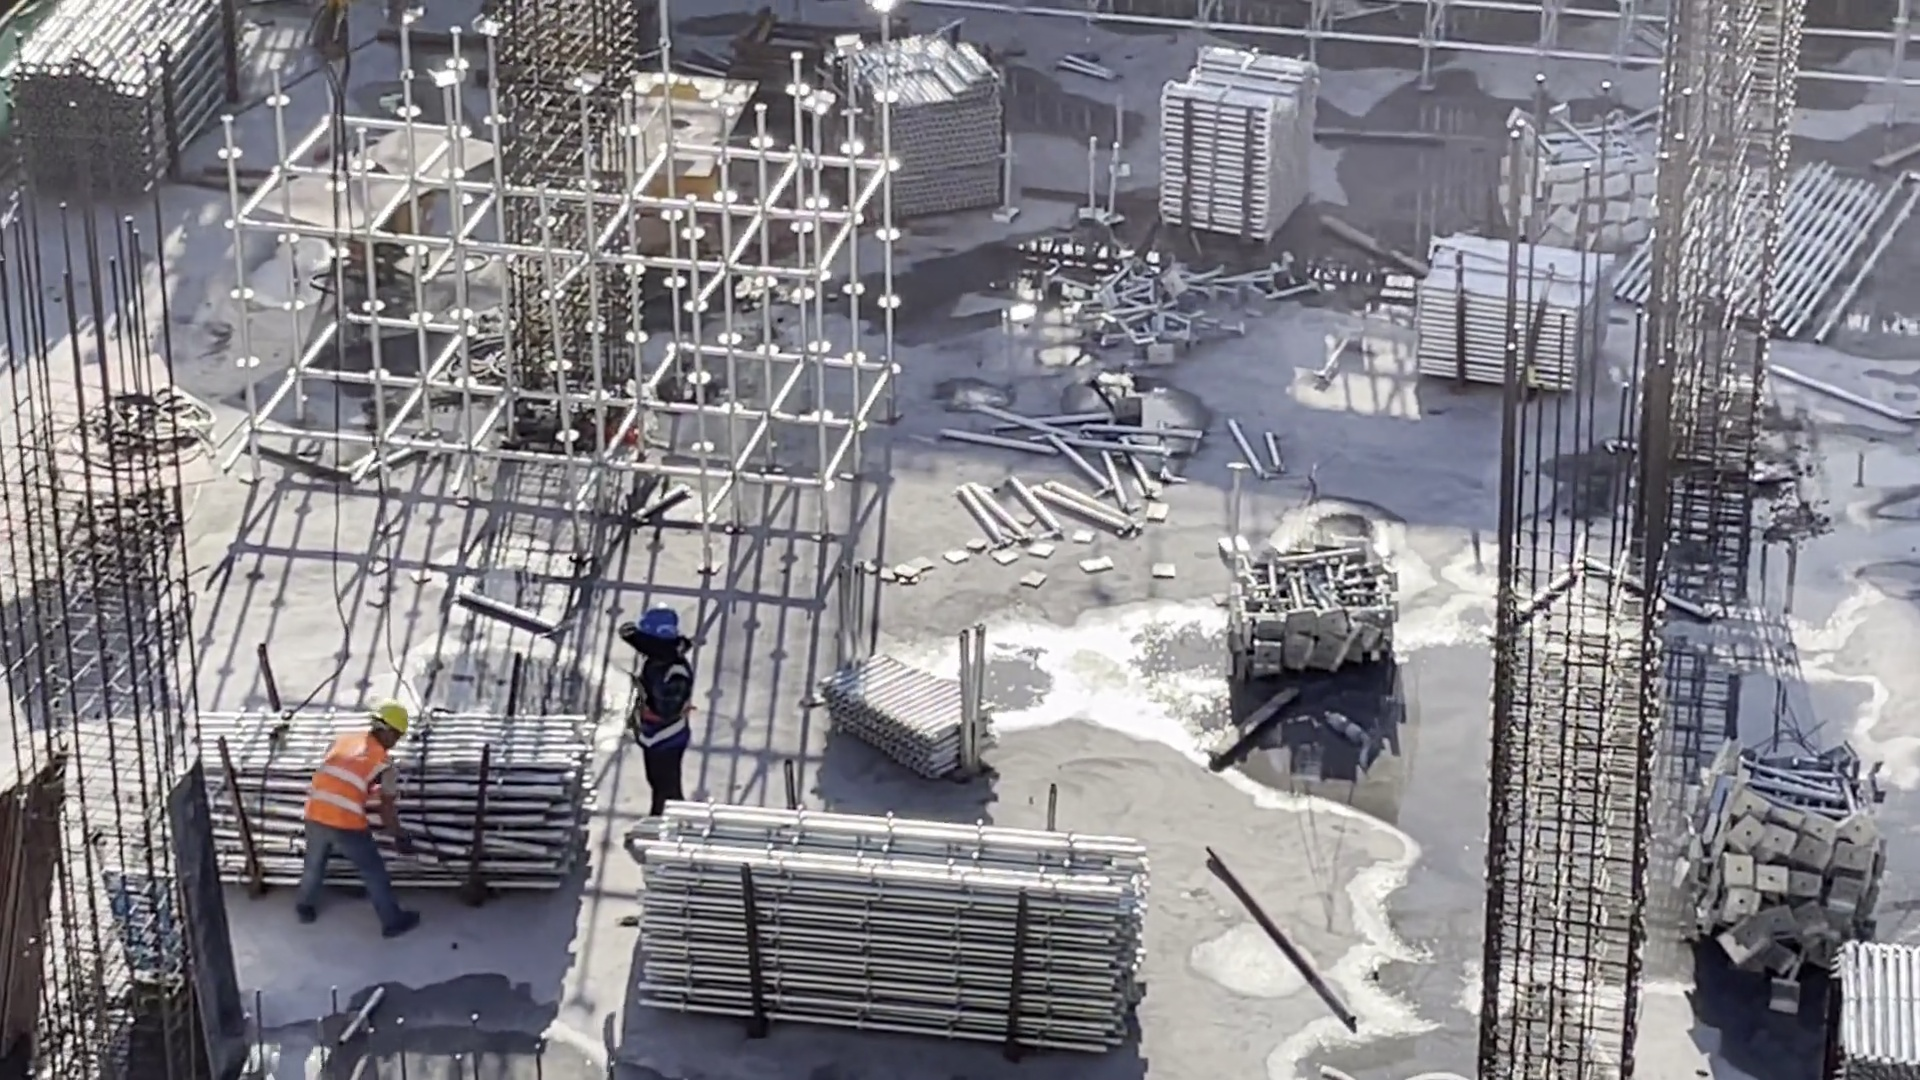cutter: (266, 104, 504, 291), (54, 368, 210, 558), (595, 68, 764, 226)
helmet: (648, 601, 680, 650), (371, 701, 407, 745)
person: (292, 700, 414, 935), (611, 617, 712, 849)
scaffold: (624, 808, 1190, 1070), (95, 705, 621, 904), (1680, 721, 1882, 965), (1, 1, 237, 195), (816, 28, 1015, 222), (1162, 50, 1316, 241), (1499, 117, 1691, 260), (1416, 249, 1606, 390), (814, 642, 1005, 775), (1230, 537, 1397, 674), (1075, 255, 1245, 365), (1804, 935, 1920, 1045)
vest: (299, 739, 395, 831), (632, 651, 685, 750)
